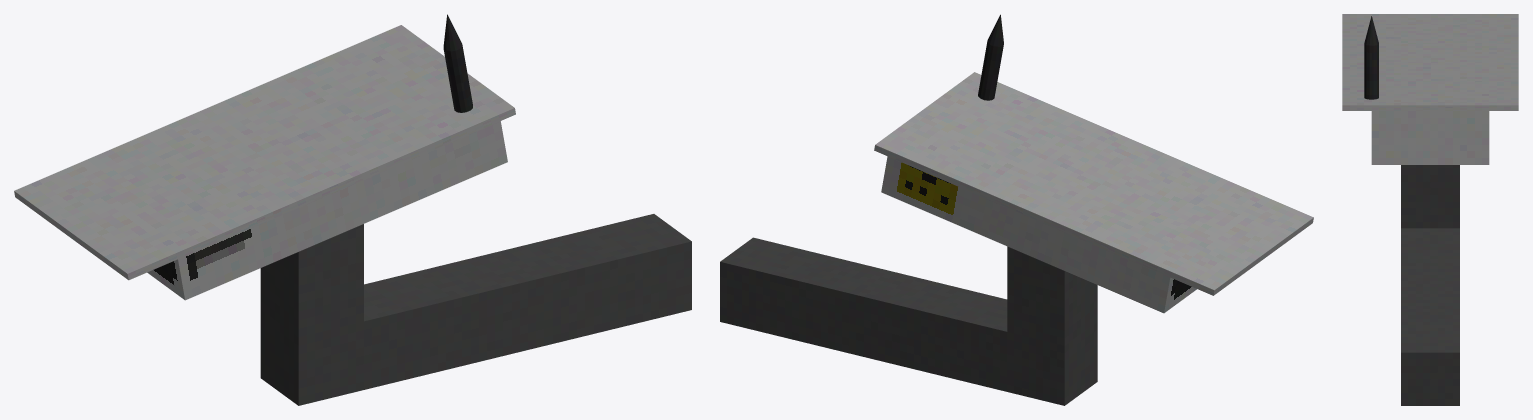
The model's file is CCTV Camera.gltf.
3 renders of one model, left to right at view 1: azimuth 30°, elevation 25°; view 2: azimuth 150°, elevation 25°; view 3: azimuth 270°, elevation 25°, orthographic. The views are drawn at different scales.
Parts seen in each view (by area): view 1: cone, Arm; view 2: cone, Arm; view 3: cone, Arm.
Part boxes in pixels (<box>): cone: <box>14,14,515,300</box>; Arm: <box>260,214,691,405</box>; cone: <box>874,14,1313,313</box>; Arm: <box>720,237,1097,405</box>; cone: <box>1342,14,1518,164</box>; Arm: <box>1401,165,1459,405</box>.
Bounding box in the file's own units: 1.15 × 0.6818 × 0.375.
Materials: 2 (2 with a texture image).
